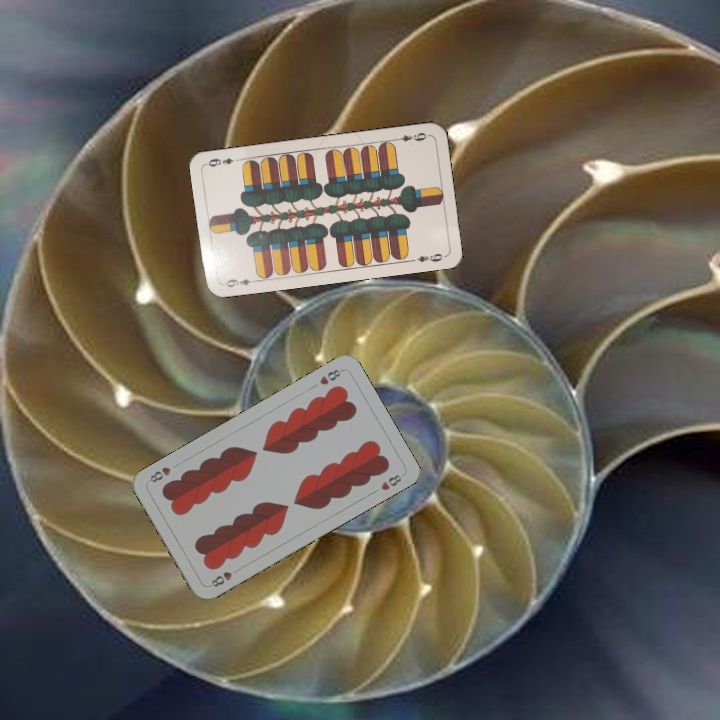E9: (390, 128, 431, 144), (222, 275, 260, 290)
H8: (315, 365, 346, 388), (207, 567, 235, 590)
